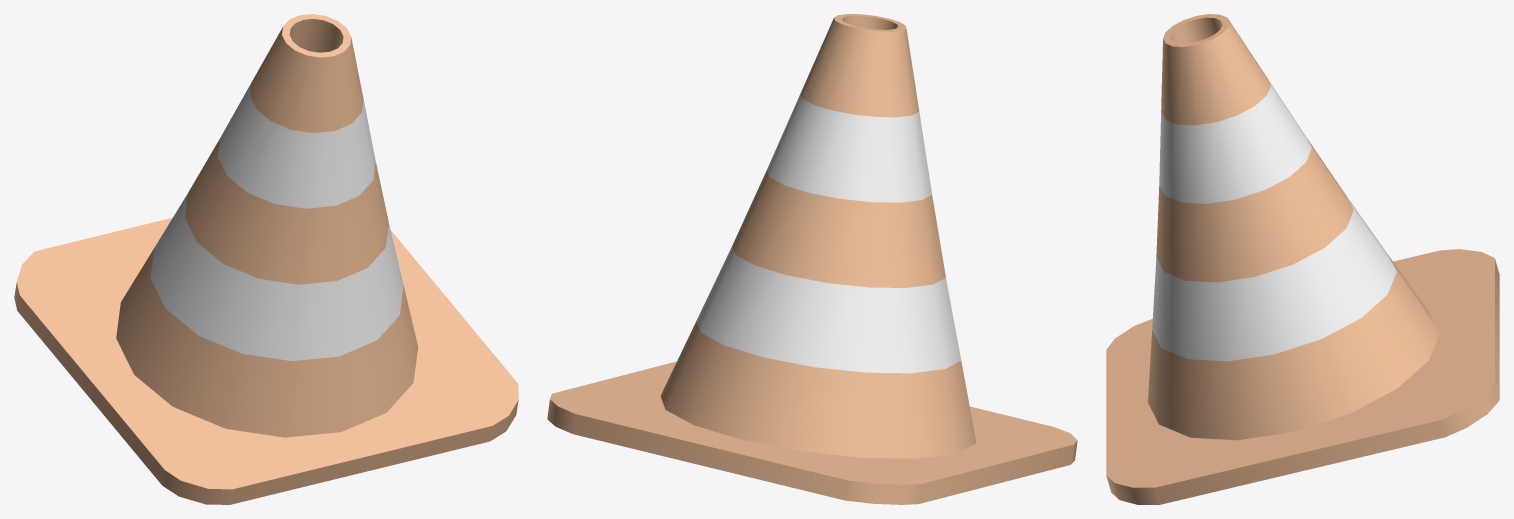
File: coneHead.fbx
3 views of the same model, side by side, from view 1: azimuth 30°, elevation 25°; view 2: azimuth 150°, elevation 25°; view 3: azimuth 270°, elevation 25° (orthographic). The views are drawn at different scales.
Parts seen in each view (by area): view 1: coneHead; view 2: coneHead; view 3: coneHead.
Part boxes in pixels (x1,y1,x2,y2): coneHead: [14, 14, 518, 504]; coneHead: [547, 14, 1077, 504]; coneHead: [1106, 14, 1499, 504].
Bounding box in the file's own units: 57.08 × 63.83 × 55.93.
